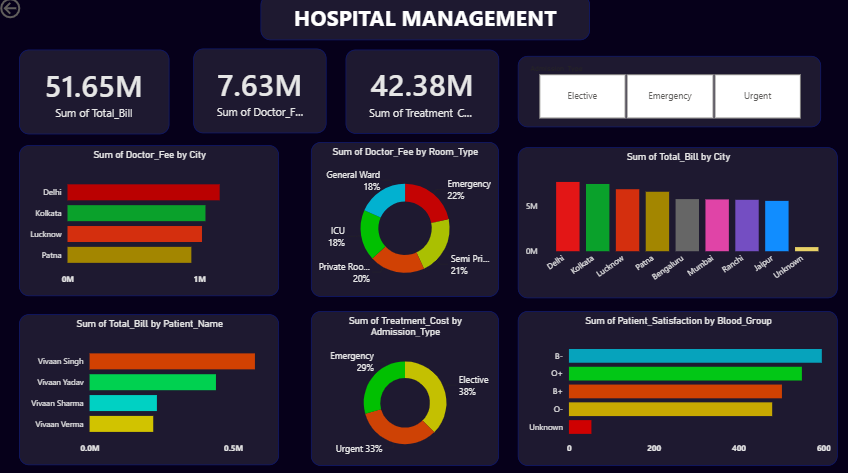

This screenshot's page, from the dashboard's own definition file:
{"tool":"powerbi","page":{"name":"Page 1","canvas":[1280,720],"ordinal":0},"visuals":[{"type":"columnChart","fields":{"Category":["Sheet1.City"],"Y":["Sum(Sheet1.Total_Bill)"]},"box":[778.4,227.6,478.5,225.5],"z":0},{"type":"barChart","fields":{"Category":["Sheet1.Blood_Group"],"Y":["Sum(Sheet1.Patient_Satisfaction)"]},"box":[778.4,472.4,478.5,231],"z":1000},{"type":"donutChart","fields":{"Category":["Sheet1.Room_Type"],"Y":["Sum(Sheet1.Doctor_Fee)"]},"box":[469.3,219.7,280.5,231],"z":2000},{"type":"donutChart","fields":{"Category":["Sheet1.Admission_Type"],"Y":["Sum(Sheet1.Treatment_Cost)"]},"box":[469.3,472.4,280.5,231],"z":3000},{"type":"actionButton","box":[0,0,100,40],"z":4000},{"type":"cardVisual","fields":{"Data":["Sum(Sheet1.Total_Bill)"]},"box":[33,81.6,224.4,127.1],"z":5000},{"type":"cardVisual","fields":{"Data":["Sum(Sheet1.Doctor_Fee)"]},"box":[293.5,80,199.3,127.1],"z":6000},{"type":"cardVisual","fields":{"Data":["Sum(Sheet1.Treatment_Cost)"]},"box":[521.1,81.6,229.1,125.6],"z":7000},{"type":"barChart","fields":{"Category":["Sheet1.City"],"Y":["Sum(Sheet1.Doctor_Fee)"]},"box":[33,224.4,388.7,225.5],"z":8000},{"type":"barChart","fields":{"Y":["Sum(Sheet1.Total_Bill)"],"Category":["Sheet1.Patient_Name"]},"box":[33,477.1,388.7,225.5],"z":9000},{"type":"slicer","fields":{"Values":["Sheet1.Admission_Type"]},"box":[778.4,91,452.9,106.3],"z":10000},{"type":"textbox","box":[393.9,0,492.8,67.5],"z":11000}]}

Visuals, with their boxes in screenshot pixels (x1, y1, x2, y2), scaled from the page's 1280x720 canvas onto the 848x473 screenshot:
columnChart - Sheet1.City x Sum(Sheet1.Total_Bill): region(516, 150, 833, 298)
barChart - Sheet1.Blood_Group x Sum(Sheet1.Patient_Satisfaction): region(516, 310, 833, 462)
donutChart - Sheet1.Room_Type x Sum(Sheet1.Doctor_Fee): region(311, 144, 497, 296)
donutChart - Sheet1.Admission_Type x Sum(Sheet1.Treatment_Cost): region(311, 310, 497, 462)
actionButton: region(0, 0, 66, 26)
cardVisual - Sum(Sheet1.Total_Bill): region(22, 54, 171, 137)
cardVisual - Sum(Sheet1.Doctor_Fee): region(194, 53, 326, 136)
cardVisual - Sum(Sheet1.Treatment_Cost): region(345, 54, 497, 136)
barChart - Sheet1.City x Sum(Sheet1.Doctor_Fee): region(22, 147, 279, 296)
barChart - Sum(Sheet1.Total_Bill) x Sheet1.Patient_Name: region(22, 313, 279, 462)
slicer - Sheet1.Admission_Type: region(516, 60, 816, 130)
textbox: region(261, 0, 587, 44)
